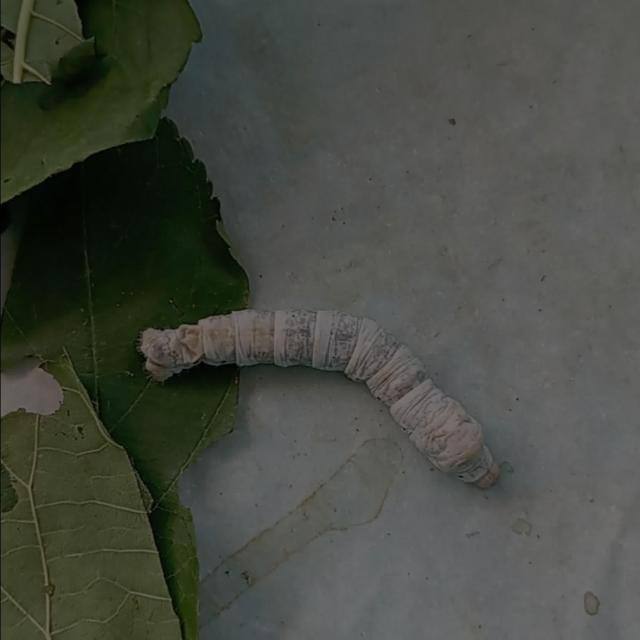Grasserie: (132, 282, 508, 499)
